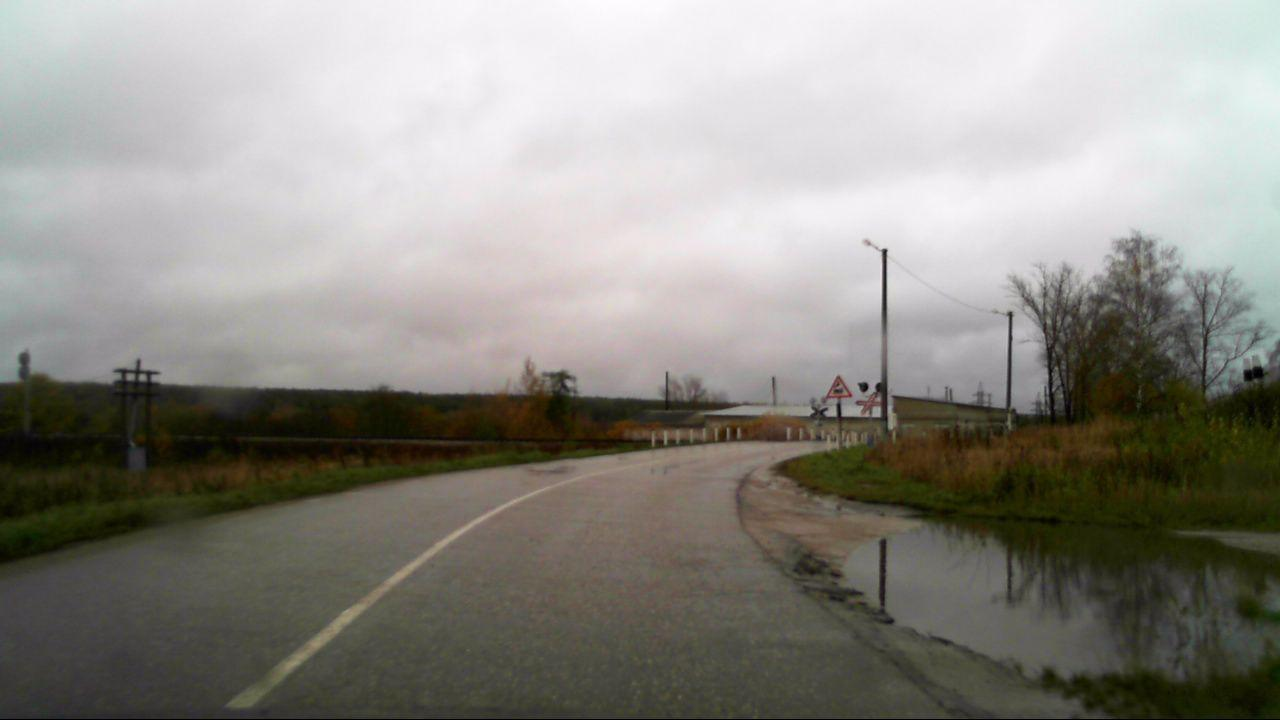1_2: (824, 375, 851, 399)
1_3_1: (855, 393, 884, 413)
